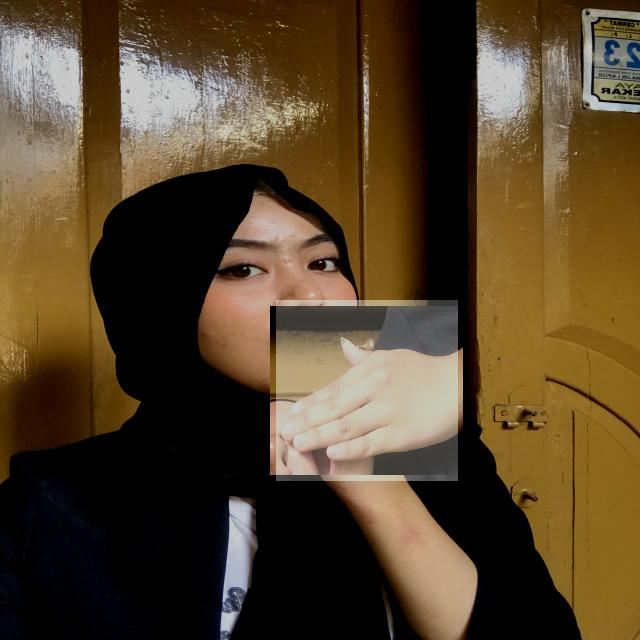ngantuk: (276, 300, 458, 481)
